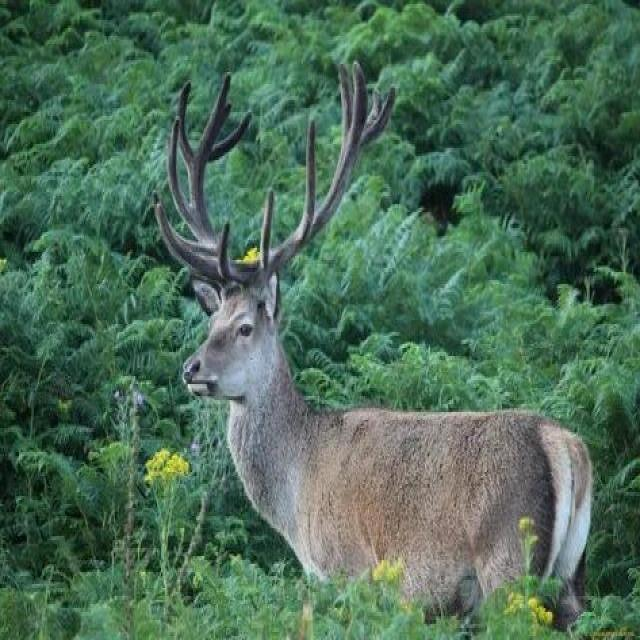deer: (130, 92, 597, 631)
